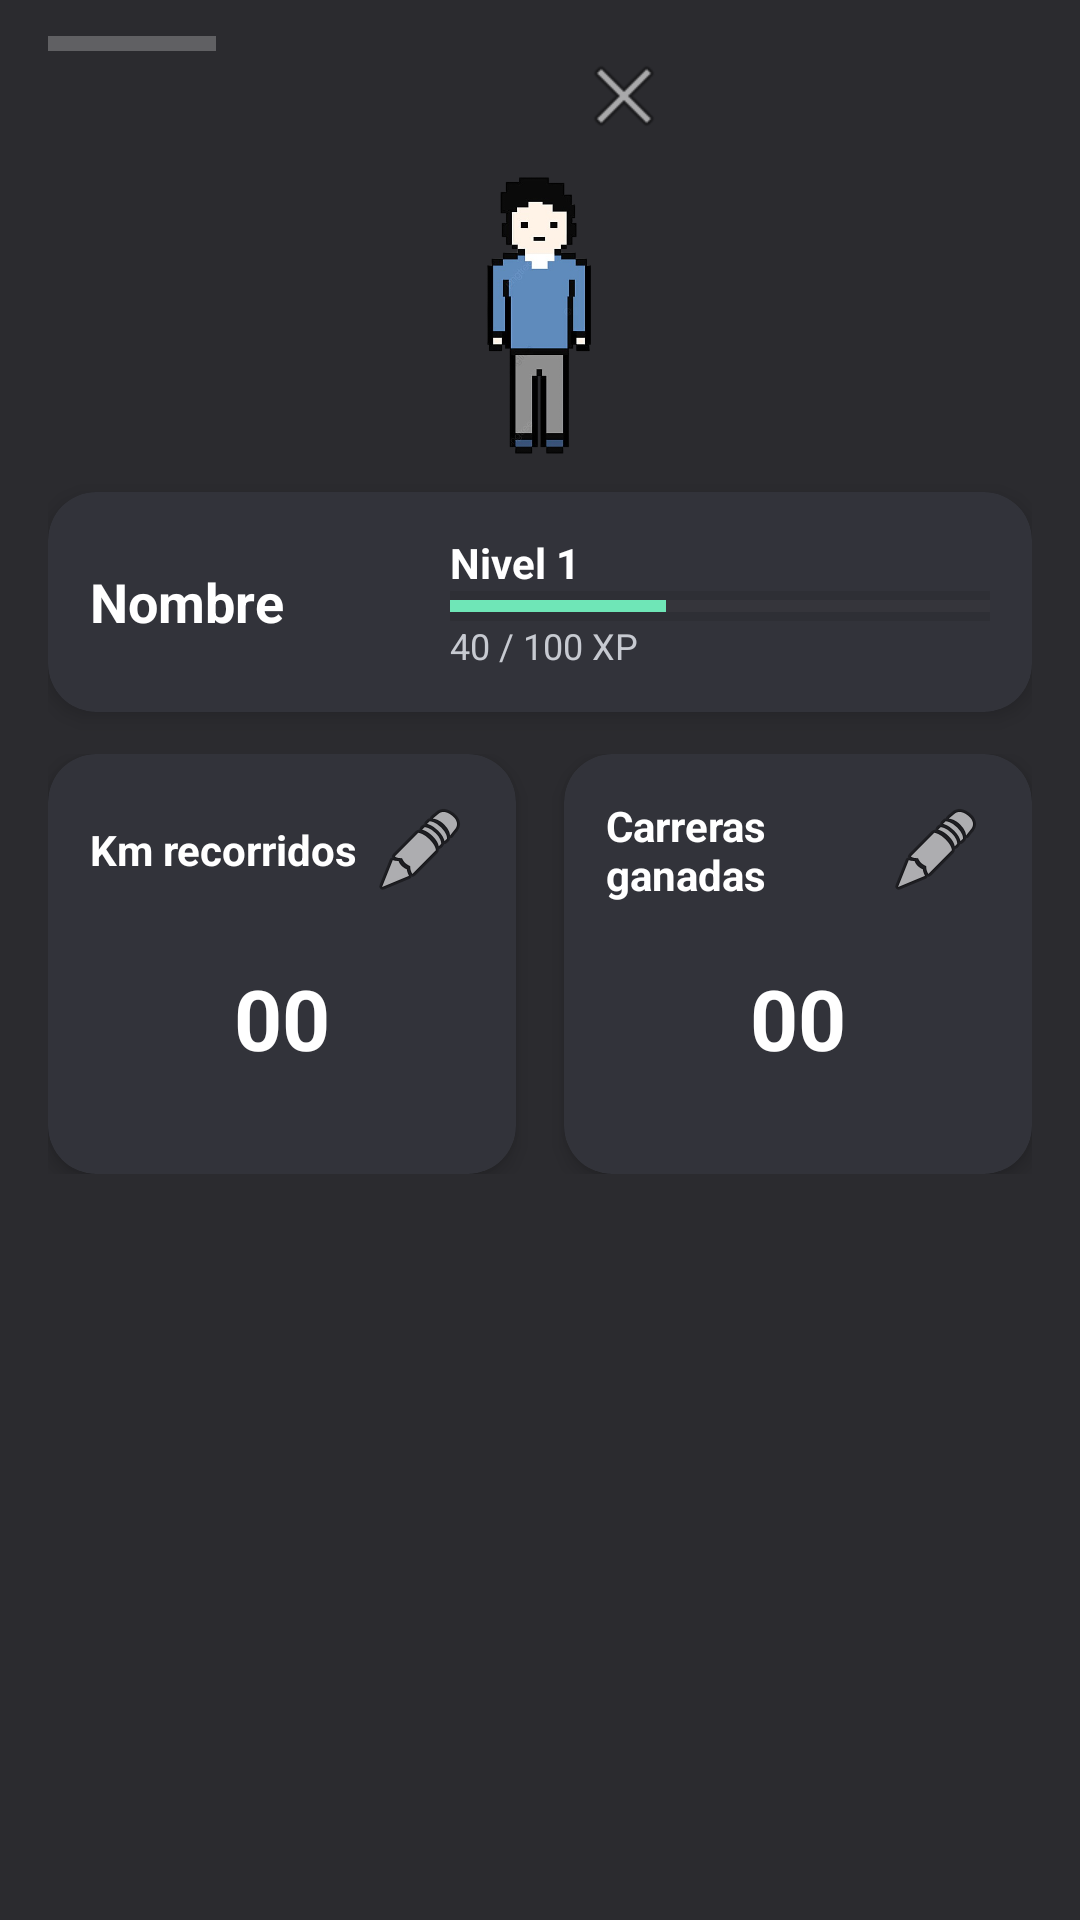

Where icons sit on this 1080x1920 app screen, as (x1, y1, x2, y2):
close clear cancel: (597, 69, 651, 123)
edit: (381, 811, 458, 888), (897, 811, 974, 888)
